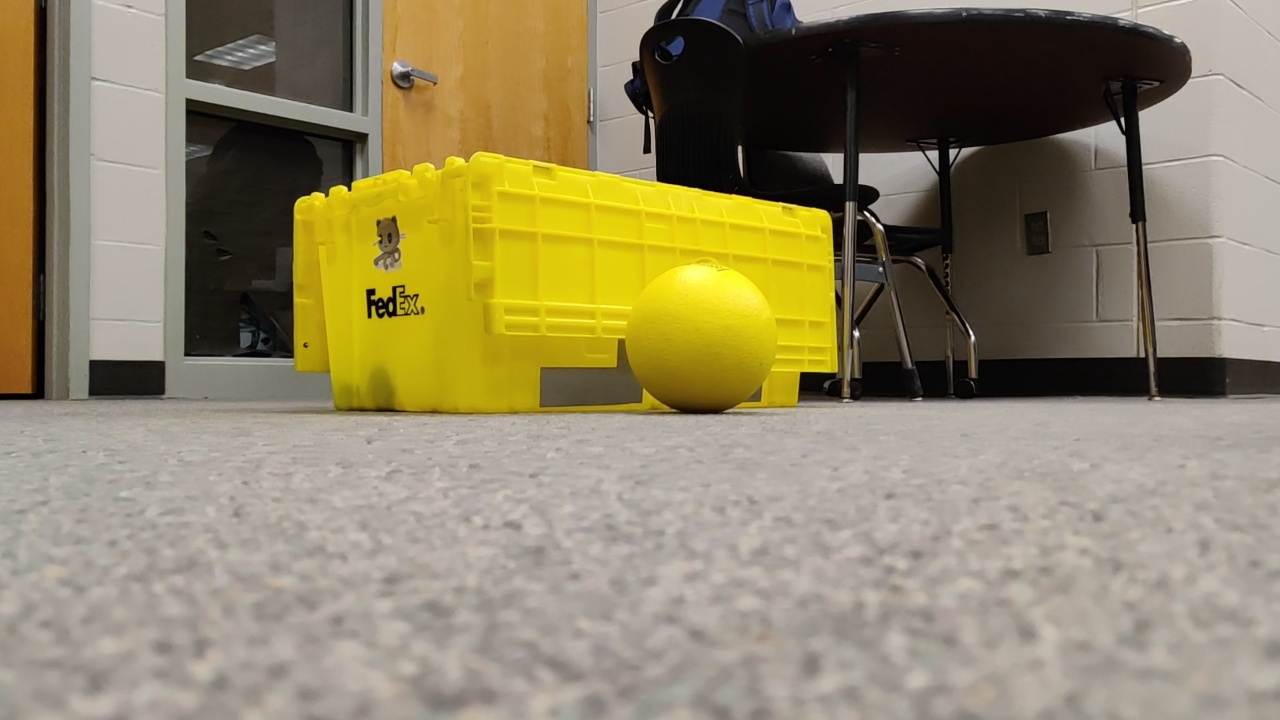Ball: (612, 255, 790, 414)
